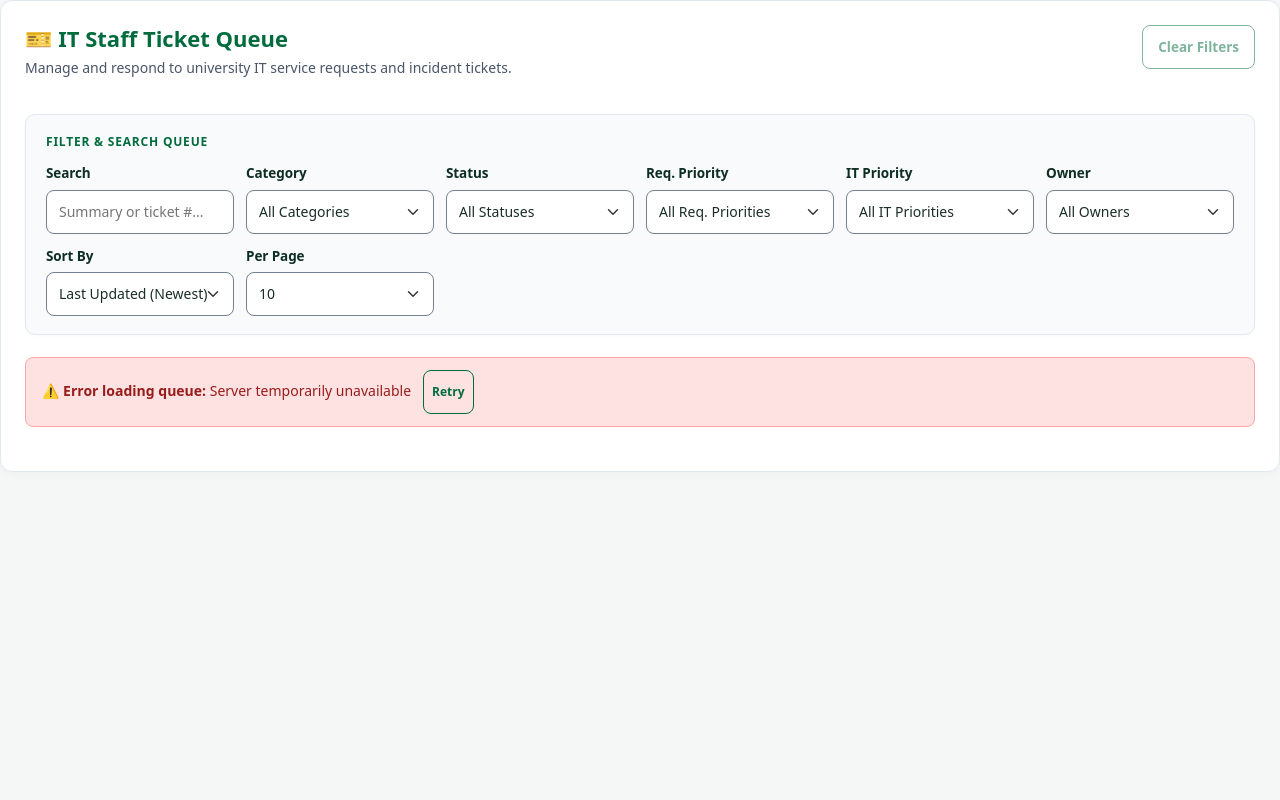
Scenario: UI-04: Staff Ticket Queue Component › renders safe error banner with retry button on network / 500 failure
Expected: the text "⚠️ Error loading queue: Server temporarily unavailable Retry" is shown, [25,357,1255,427]
Click the button "Retry".
click(448, 392)  # box [423,370,474,414]
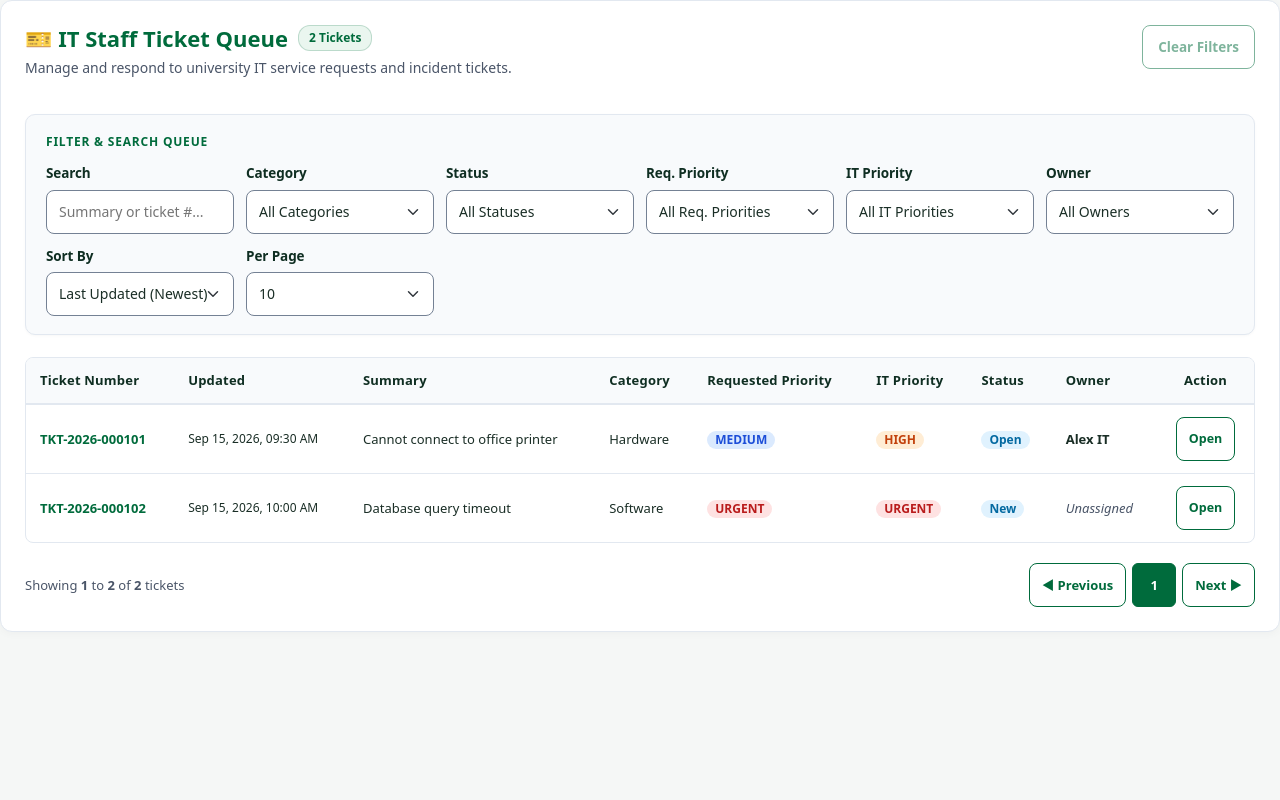
Expected: the text "Cannot connect to office printer" is shown, [363,430,581,449]
